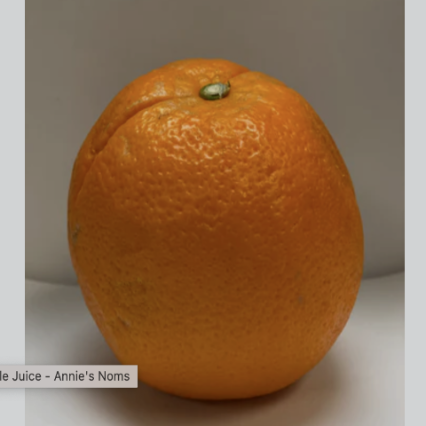orange: (43, 37, 380, 400)
